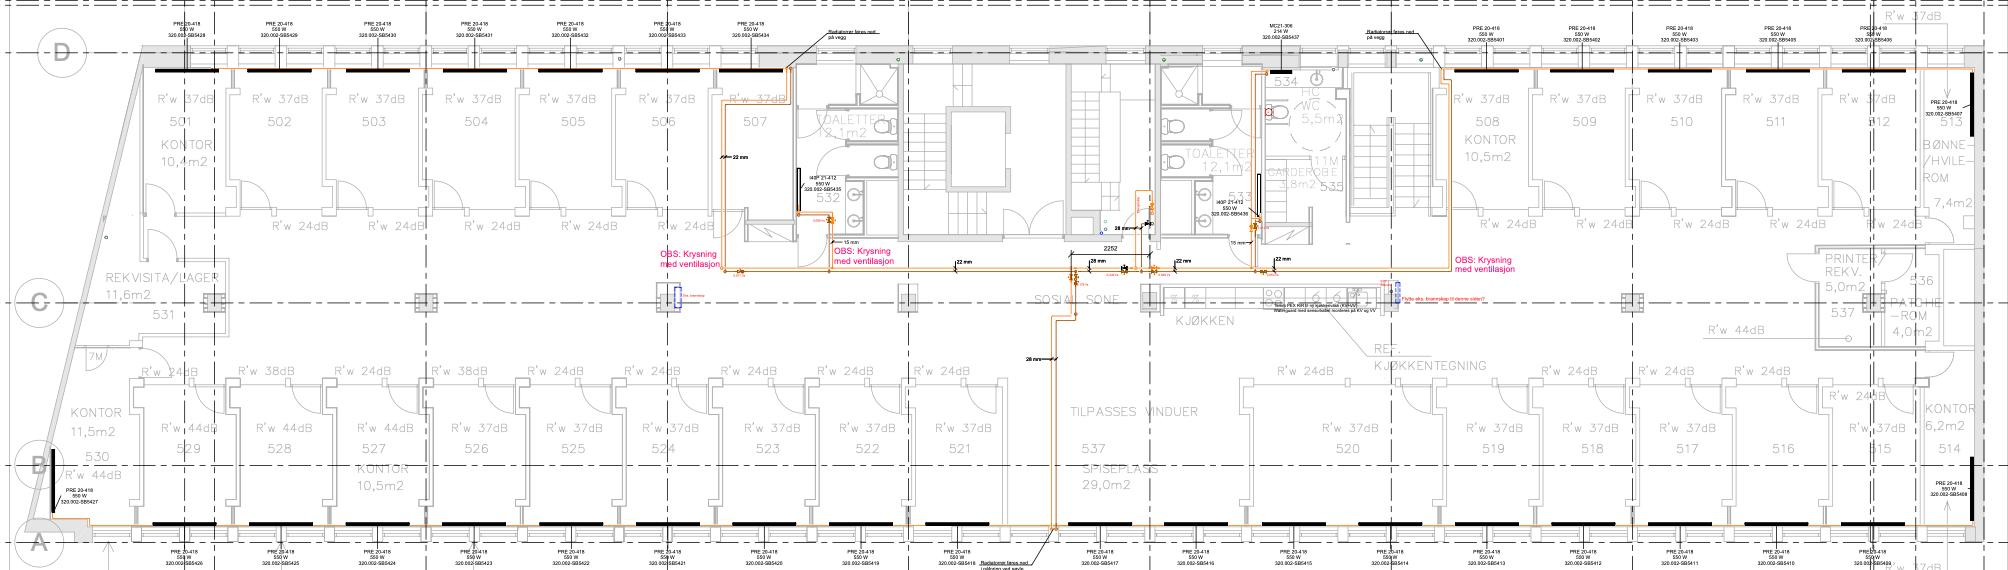room: (903, 59, 1067, 240), (1245, 380, 1439, 526), (795, 64, 903, 237), (44, 347, 138, 525), (1817, 247, 1979, 348), (132, 382, 234, 524), (1724, 383, 1826, 524), (711, 384, 812, 526), (615, 383, 716, 525), (325, 383, 426, 524), (809, 383, 909, 525), (613, 69, 711, 214), (424, 67, 519, 215), (1533, 384, 1633, 525), (231, 383, 330, 524), (519, 382, 617, 524), (425, 382, 522, 525), (519, 67, 613, 214), (1631, 70, 1730, 211), (908, 383, 1005, 525), (327, 69, 423, 213), (1535, 69, 1634, 209), (1633, 384, 1730, 525), (1729, 69, 1824, 211), (232, 68, 325, 211), (1443, 383, 1535, 526), (1825, 383, 1917, 524), (142, 68, 231, 214), (1442, 70, 1533, 211), (711, 68, 794, 222), (1825, 70, 1917, 209), (1158, 105, 1252, 237), (141, 260, 227, 333)
